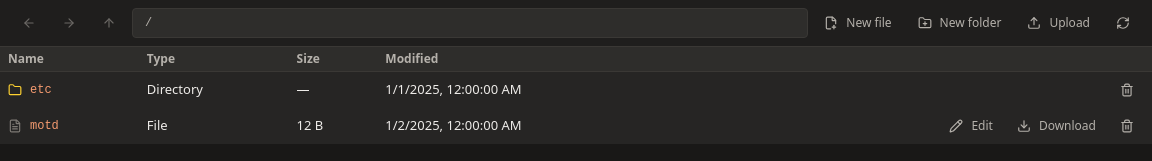
FilesTab › clicking the address bar switches to a path input
Click the element with test id "files-breadcrumbs" at (470,23), box [132, 8, 808, 38]
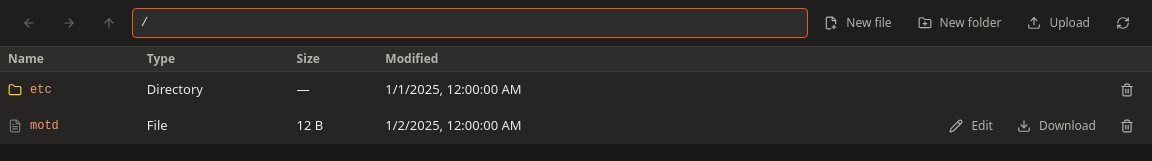
Check: the field with test id "files-path-input" holds "/", box [132, 8, 808, 38]
Check: the element with test id "files-breadcrumbs" is gone
